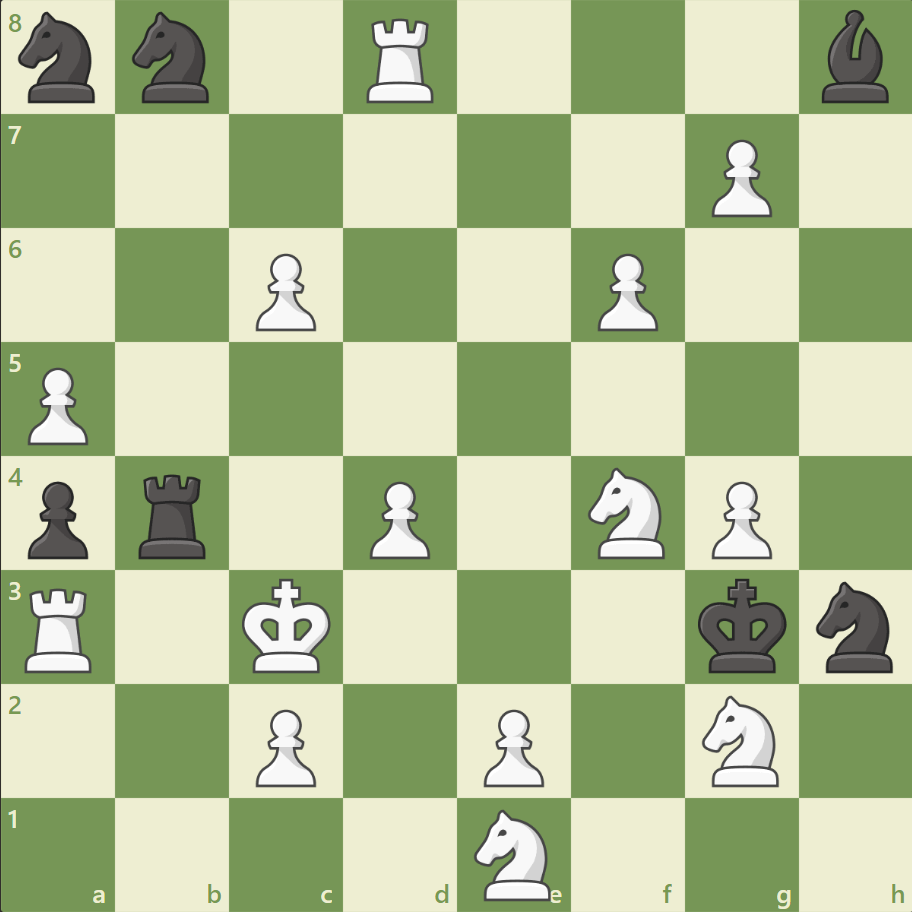K: (238, 571, 338, 679)
N: (579, 461, 676, 564), (692, 688, 789, 791), (465, 802, 562, 904)
P: (701, 132, 776, 223), (247, 246, 322, 337), (20, 359, 95, 450), (701, 473, 776, 564), (247, 700, 322, 791), (474, 700, 549, 791), (588, 246, 662, 337), (361, 473, 435, 564)
R: (19, 579, 102, 676), (360, 12, 442, 109)
b: (812, 6, 896, 109)
k: (692, 571, 792, 679)
n: (124, 7, 222, 110), (11, 7, 108, 110), (806, 575, 903, 677)
p: (20, 473, 95, 564)
r: (133, 466, 215, 563)
